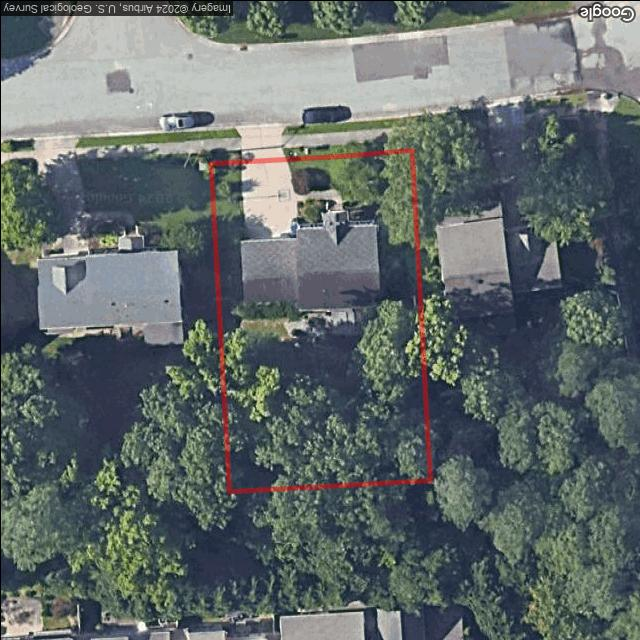Driveway: (241, 159, 296, 239)
Extra-Driveway: (235, 125, 286, 162)
Extra-Lawn: (282, 139, 410, 158), (279, 116, 409, 134), (207, 150, 240, 164), (206, 127, 239, 139)
Extra-Sidewalk: (280, 126, 410, 147), (207, 136, 241, 150)
House: (239, 208, 380, 309)
Lawn: (210, 150, 430, 490)
Other: (281, 308, 363, 339)
Sidewalk: (294, 189, 343, 210)
